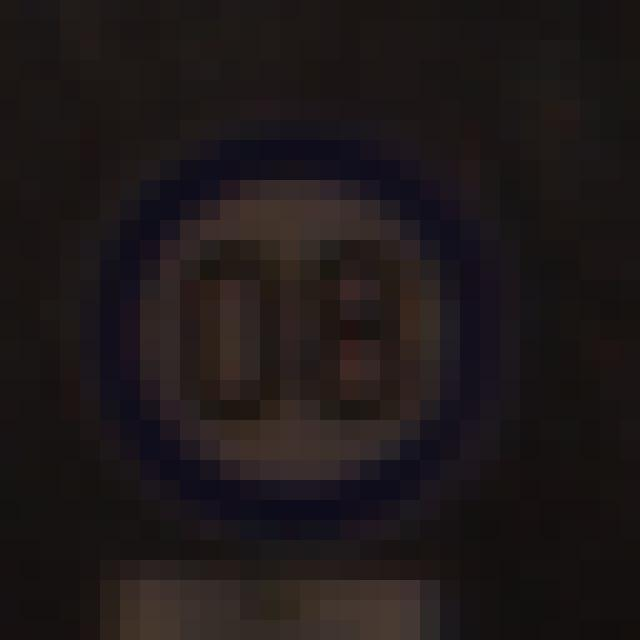SPEED-LIMIT-80: (105, 149, 488, 504)
